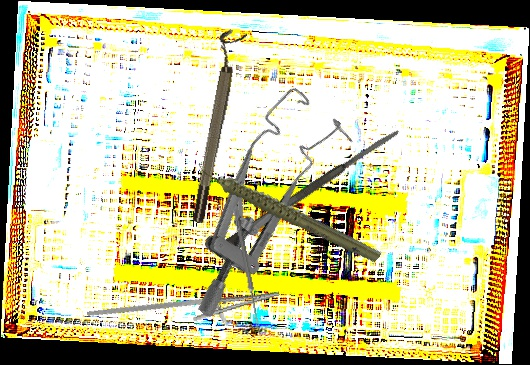Fixation Ring: (180, 27, 248, 225)
Handpiece: (194, 124, 384, 297)
Needle Holder: (86, 267, 284, 355)
Spatula Surgical: (218, 126, 404, 252)
Speculum: (136, 81, 371, 322)
Surgical Spoon: (231, 206, 262, 328)
